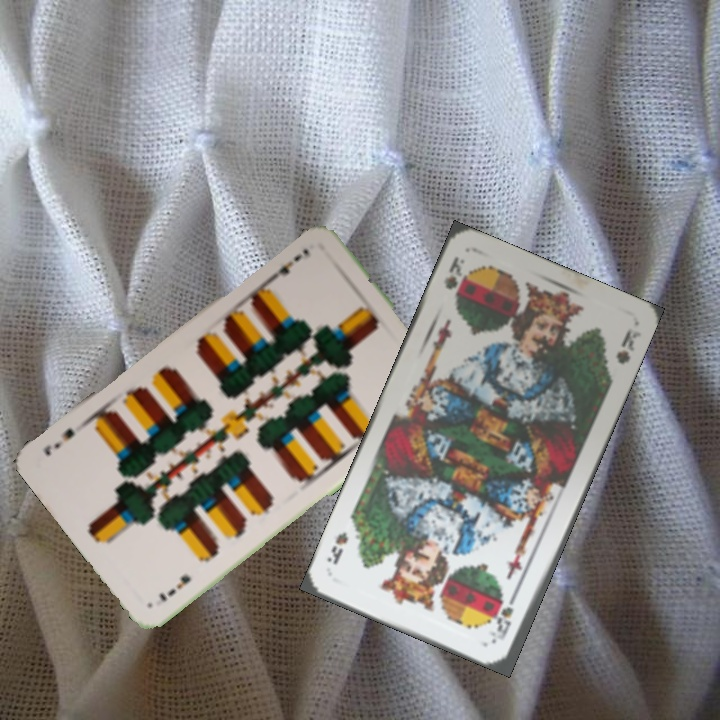E7: (265, 244, 313, 284), (154, 570, 193, 604)
SK: (489, 587, 521, 643), (440, 252, 468, 301)
